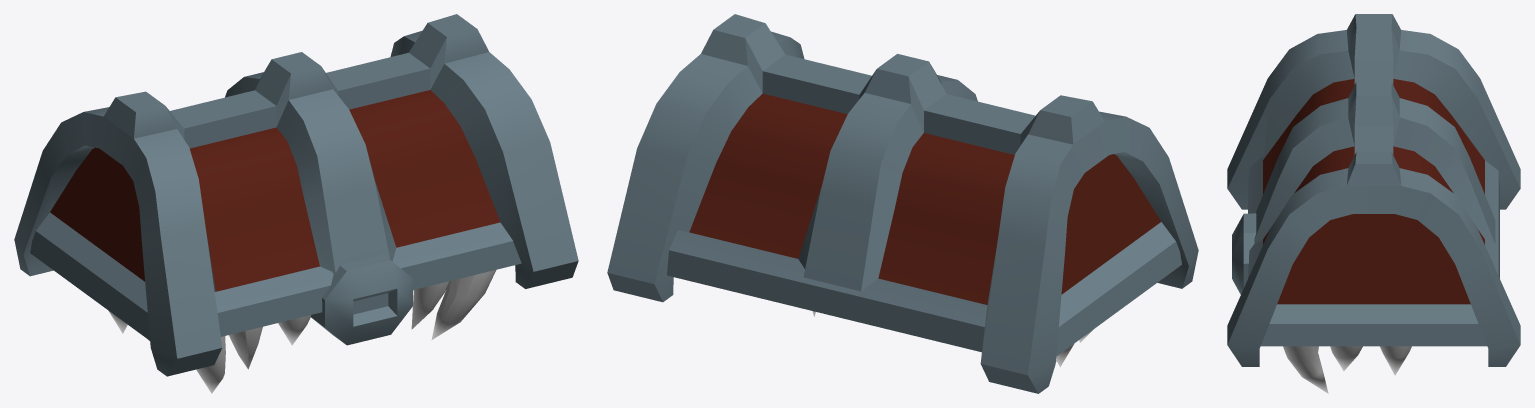
The model's file is chestTop_uncommon_mimic.obj.
The picture shows the model from 3 angles, left to right: view 1: azimuth 30°, elevation 25°; view 2: azimuth 150°, elevation 25°; view 3: azimuth 270°, elevation 25°; orthographic projection. The views are drawn at different scales.
Parts seen in each view (by area): view 1: chestTop_uncommon_mimic_Cube.2499; view 2: chestTop_uncommon_mimic_Cube.2499; view 3: chestTop_uncommon_mimic_Cube.2499.
Part boxes in pixels (bbox=[...]): chestTop_uncommon_mimic_Cube.2499: bbox=[14, 14, 578, 393]; chestTop_uncommon_mimic_Cube.2499: bbox=[607, 14, 1198, 393]; chestTop_uncommon_mimic_Cube.2499: bbox=[1227, 14, 1520, 393].
Size of the model in its own units: 1.9 by 1.24 by 1.28.
